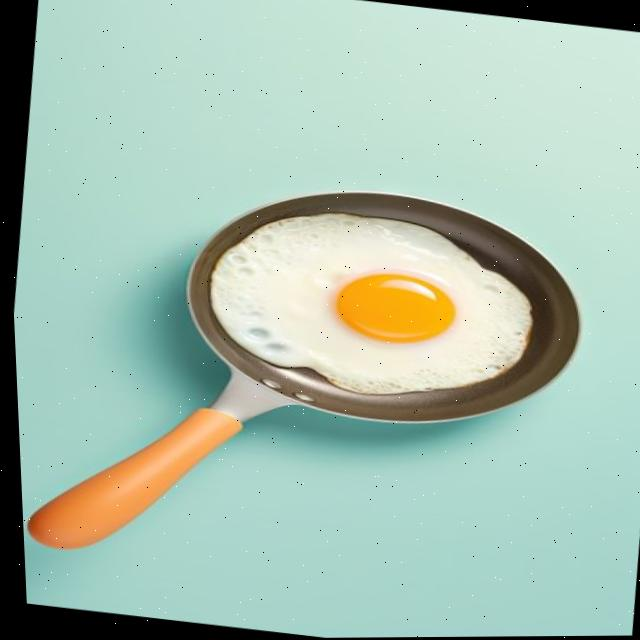Egg: (207, 213, 526, 395)
